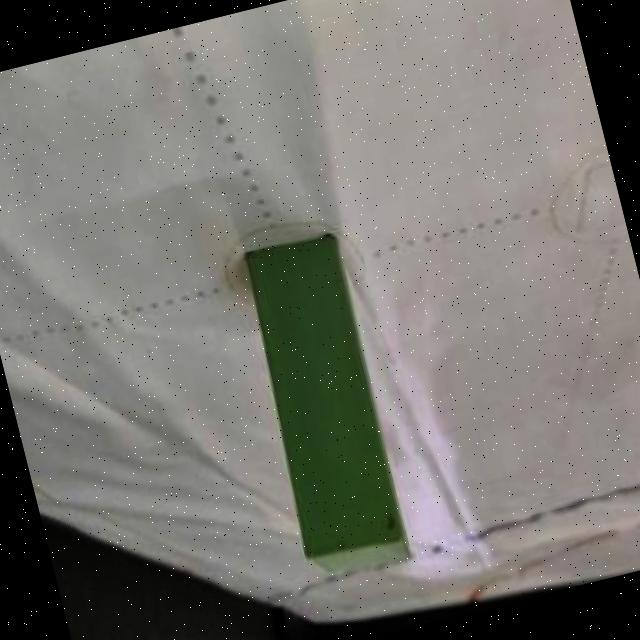greenbox: (227, 228, 416, 594)
